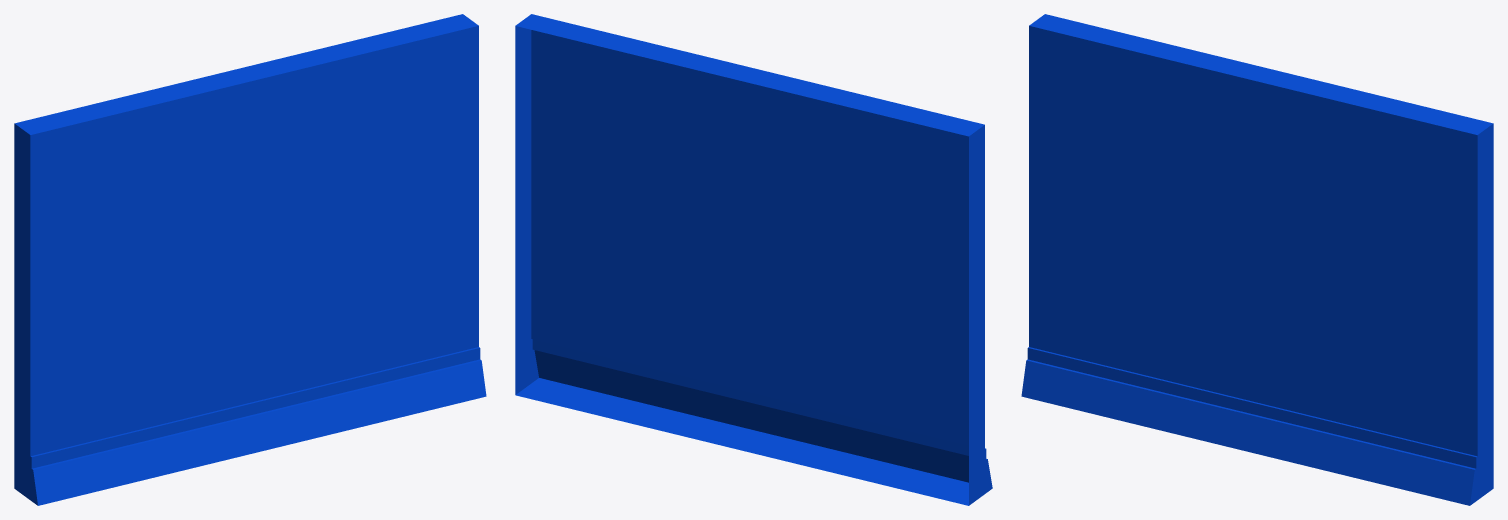
File: MedbayWall.fbx
3 views of the same model, side by side, from view 1: azimuth 30°, elevation 25°; view 2: azimuth 150°, elevation 25°; view 3: azimuth 330°, elevation 25° (orthographic).
Parts seen in each view (by area): view 1: MedbayWall; view 2: MedbayWall; view 3: MedbayWall.
Boxes of the visible parts, bbox=[...] form: MedbayWall: bbox=[14, 14, 486, 505]; MedbayWall: bbox=[515, 14, 992, 505]; MedbayWall: bbox=[1021, 14, 1493, 505].
Bounding box in the file's own units: 273 × 350 × 31.95.
